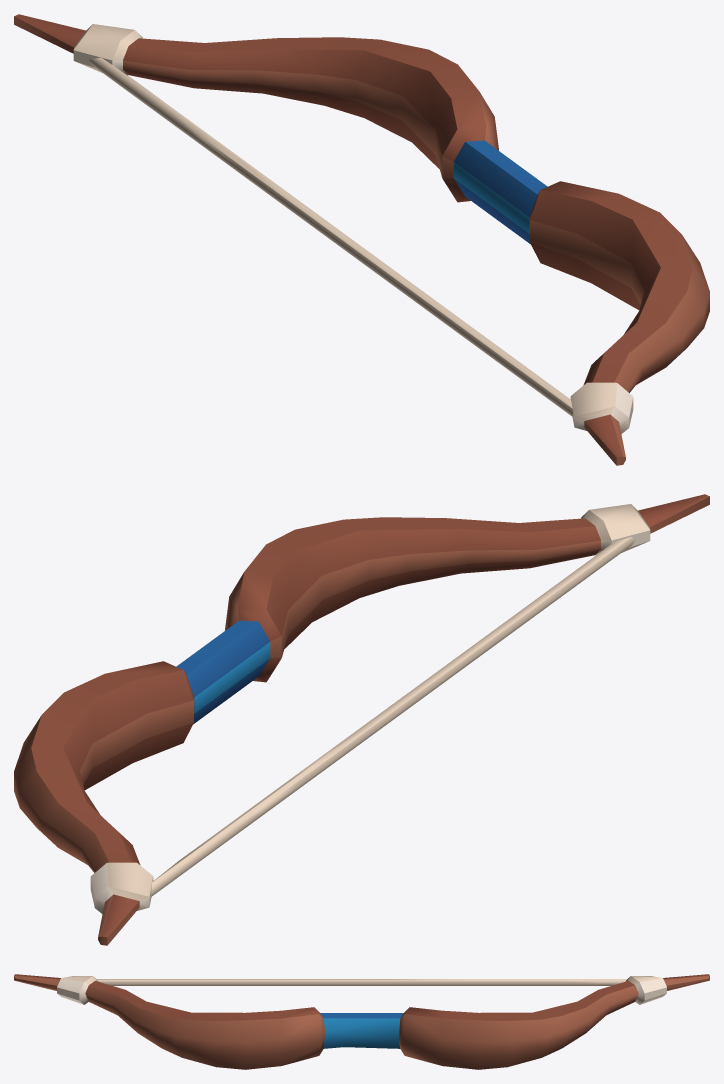
File: bow_withString.glb
The picture shows the model from 3 angles, top to bottom: view 1: azimuth 30°, elevation 25°; view 2: azimuth 150°, elevation 25°; view 3: azimuth 270°, elevation 25°; orthographic projection. The views are drawn at different scales.
Parts seen in each view (by area): view 1: bow_withString; view 2: bow_withString; view 3: bow_withString.
Boxes of the visible parts, x1,y1,x2,y2 form: bow_withString: (14,14,709,465); bow_withString: (14,494,709,945); bow_withString: (14,974,709,1069).
Bounding box in the file's own units: 0.4905 × 0.1557 × 1.98.
1 material, 1 textured.
